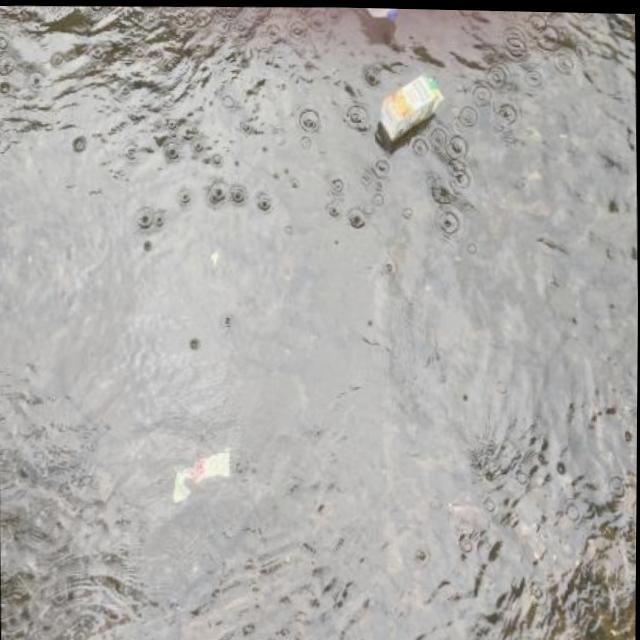Cardboard: (376, 64, 448, 152)
Plastic: (164, 441, 237, 511), (361, 6, 403, 22)
